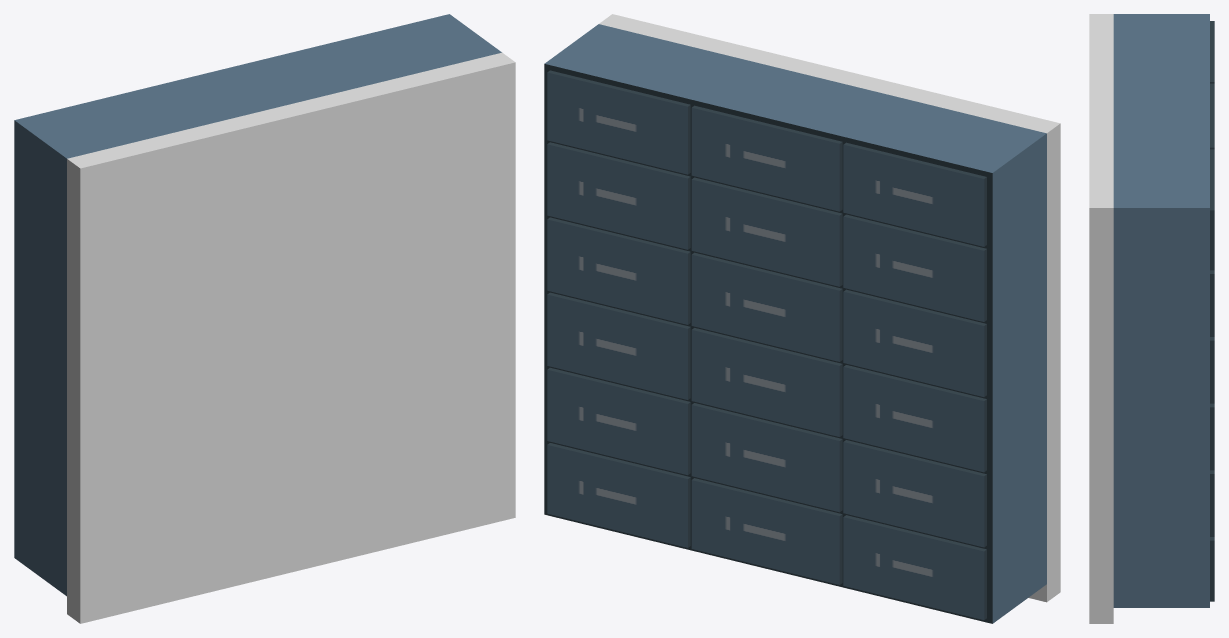
The model's file is policar.fbx.
3 renders of one model, left to right at view 1: azimuth 30°, elevation 25°; view 2: azimuth 150°, elevation 25°; view 3: azimuth 270°, elevation 25°, orthographic. The views are drawn at different scales.
Parts seen in each view (by area): view 1: Cube.001; view 2: Cube.001; view 3: Cube.001.
Boxes of the visible parts, box(x1,y1,x2,y2) form: Cube.001: box(14, 14, 515, 623); Cube.001: box(544, 14, 1060, 623); Cube.001: box(1089, 14, 1214, 623).
Size of the model in its own units: 900 by 900 by 246.
